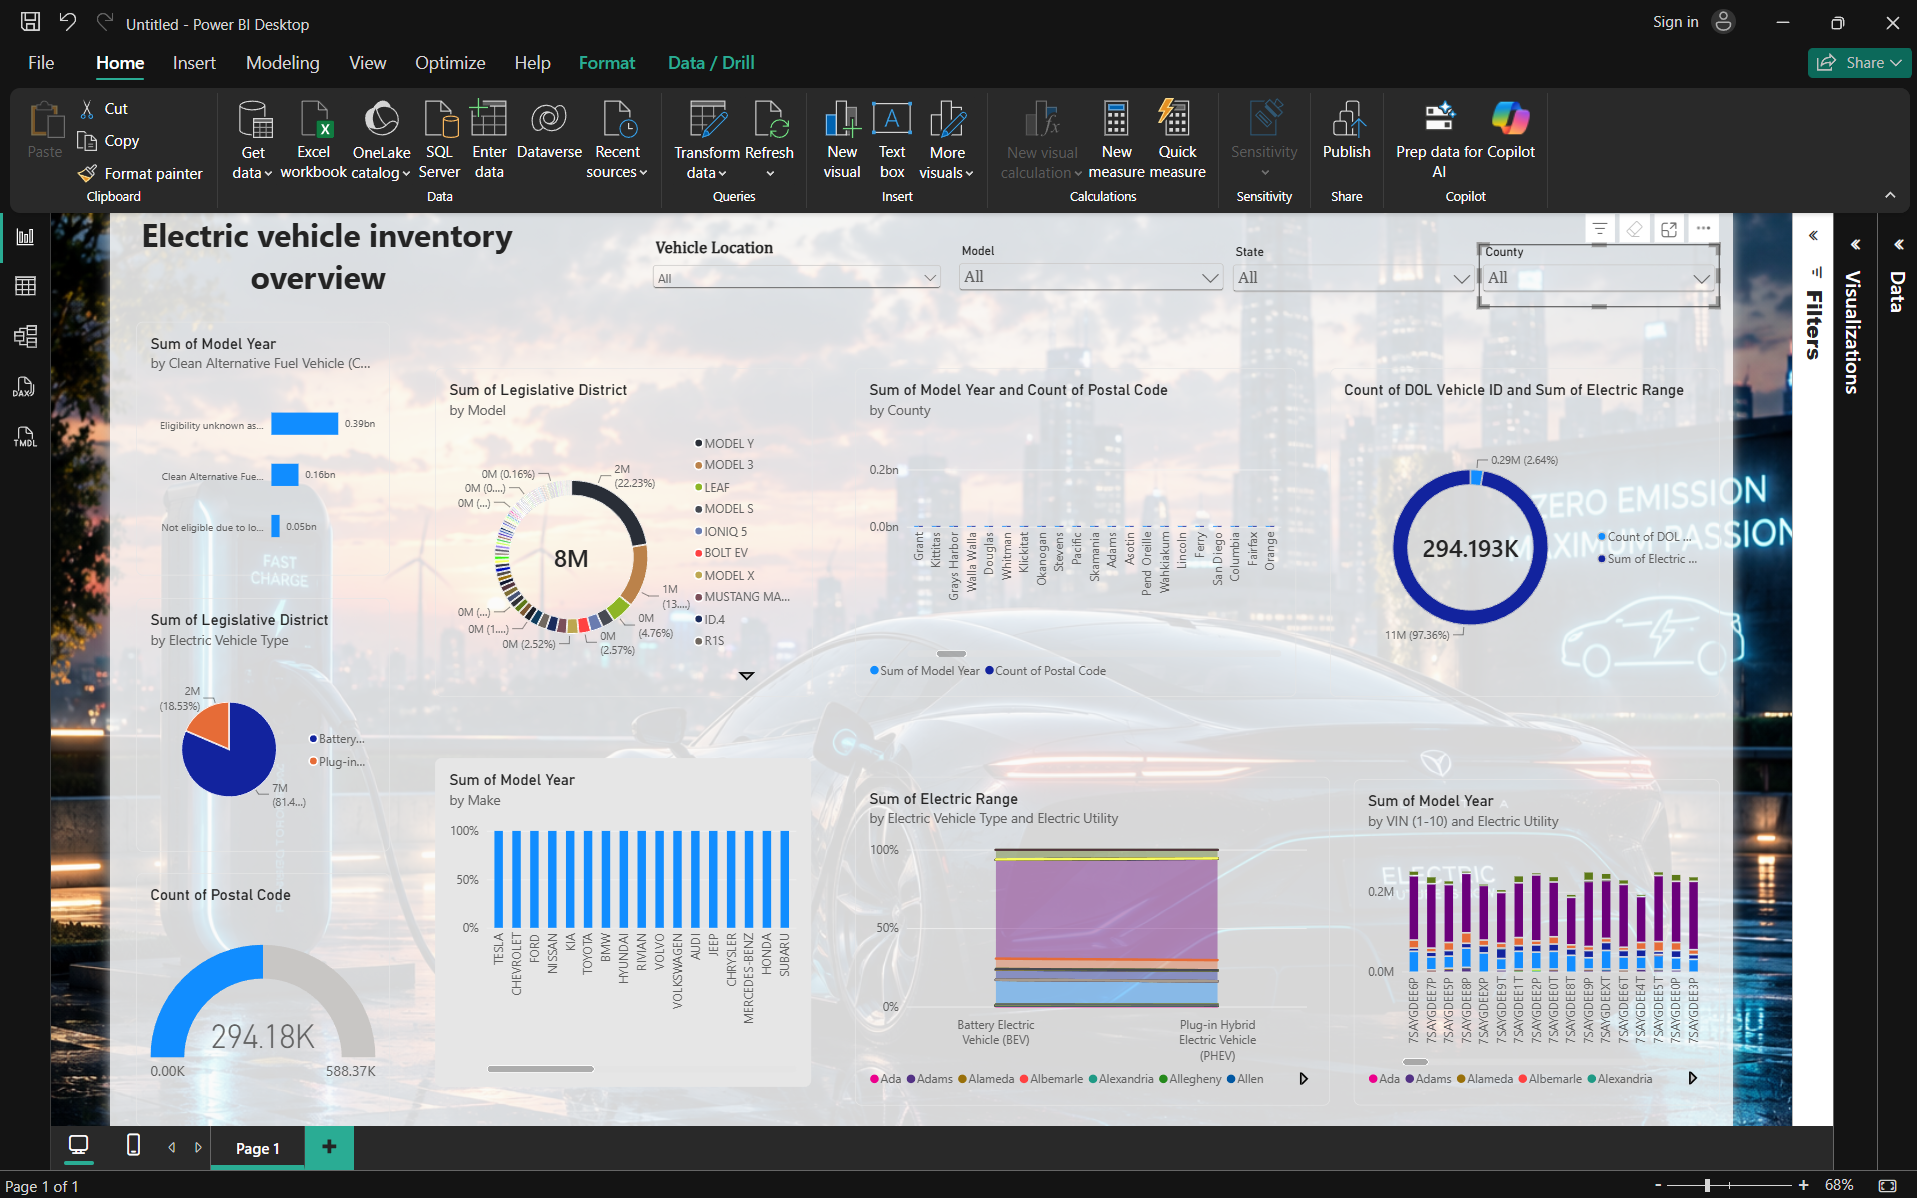

Layout of this report page (visuals, bound fields, positions):
{"tool":"powerbi","page":{"name":"Page 1","canvas":[1920,1080],"ordinal":0},"visuals":[{"type":"slicer","fields":{"Values":["export.Model"]},"box":[999.4,34.9,322.7,76.7],"z":0},{"type":"slicer","fields":{"Values":["export.Vehicle Location"]},"box":[636.6,31.4,350.6,85.5],"z":1000},{"type":"columnChart","fields":{"Category":["export.VIN (1-10)"],"Series":["export.Electric Utility"],"Y":["Sum(export.Model Year)"]},"box":[1470.4,669.8,432.6,385.5],"z":2000},{"type":"slicer","fields":{"Values":["export.County"]},"box":[1618.6,36.6,284.3,75],"z":3000},{"type":"slicer","fields":{"Values":["export.State"]},"box":[1322.1,36.6,296.5,80.2],"z":4000},{"type":"barChart","fields":{"Category":["export.Clean Alternative Fuel Vehicle (CAFV) Eligibility"],"Y":["Sum(export.Model Year)"]},"box":[31.4,129.1,300,300],"z":5000},{"type":"pieChart","fields":{"Y":["Sum(export.Legislative District)"],"Category":["export.Electric Vehicle Type"]},"box":[31.4,455.2,300,300],"z":6000},{"type":"gauge","fields":{"Y":["CountNonNull(export.Postal Code)"]},"box":[31.4,779.7,300,300],"z":7000},{"type":"donutChart","fields":{"Category":["export.Model"],"Y":["Sum(export.Legislative District)"]},"box":[383.7,183.1,446.5,389],"z":8000},{"type":"hundredPercentStackedColumnChart","fields":{"Y":["Sum(export.Model Year)"],"Category":["export.Make"]},"box":[383.7,643.6,444.8,389],"z":9000},{"type":"hundredPercentStackedAreaChart","fields":{"Category":["export.Electric Vehicle Type"],"Y":["Sum(export.Electric Range)"],"Series":["export.Electric Utility"]},"box":[880.8,666.3,561.6,389],"z":10000},{"type":"clusteredColumnChart","fields":{"Y":["Sum(export.Model Year)","CountNonNull(export.Postal Code)"],"Category":["export.County"]},"box":[880.8,183.1,521.5,389],"z":11000},{"type":"donutChart","fields":{"Y":["CountNonNull(export.DOL Vehicle ID)","Sum(export.Electric Range)"]},"box":[1442.4,183.1,460.5,389],"z":12000},{"type":"textbox","box":[19.2,0,464,116.9],"z":14000}]}

Visuals, with their boxes on the page's 1920x1080 design canvas (x1, y1, x2, y2). These are canvas units, not pixel positions in the 1917x1198 screenshot, which may show the page scaled, cropped or inside an application window:
slicer - export.Model: l=999, t=35, r=1322, b=112
slicer - export.Vehicle Location: l=637, t=31, r=987, b=117
columnChart - export.VIN (1-10) x export.Electric Utility: l=1470, t=670, r=1903, b=1055
slicer - export.County: l=1619, t=37, r=1903, b=112
slicer - export.State: l=1322, t=37, r=1619, b=117
barChart - export.Clean Alternative Fuel Vehicle (CAFV) Eligibility x Sum(export.Model Year): l=31, t=129, r=331, b=429
pieChart - Sum(export.Legislative District) x export.Electric Vehicle Type: l=31, t=455, r=331, b=755
gauge - CountNonNull(export.Postal Code): l=31, t=780, r=331, b=1080
donutChart - export.Model x Sum(export.Legislative District): l=384, t=183, r=830, b=572
hundredPercentStackedColumnChart - Sum(export.Model Year) x export.Make: l=384, t=644, r=828, b=1033
hundredPercentStackedAreaChart - export.Electric Vehicle Type x Sum(export.Electric Range): l=881, t=666, r=1442, b=1055
clusteredColumnChart - Sum(export.Model Year) x CountNonNull(export.Postal Code): l=881, t=183, r=1402, b=572
donutChart - CountNonNull(export.DOL Vehicle ID) x Sum(export.Electric Range): l=1442, t=183, r=1903, b=572
textbox: l=19, t=0, r=483, b=117
